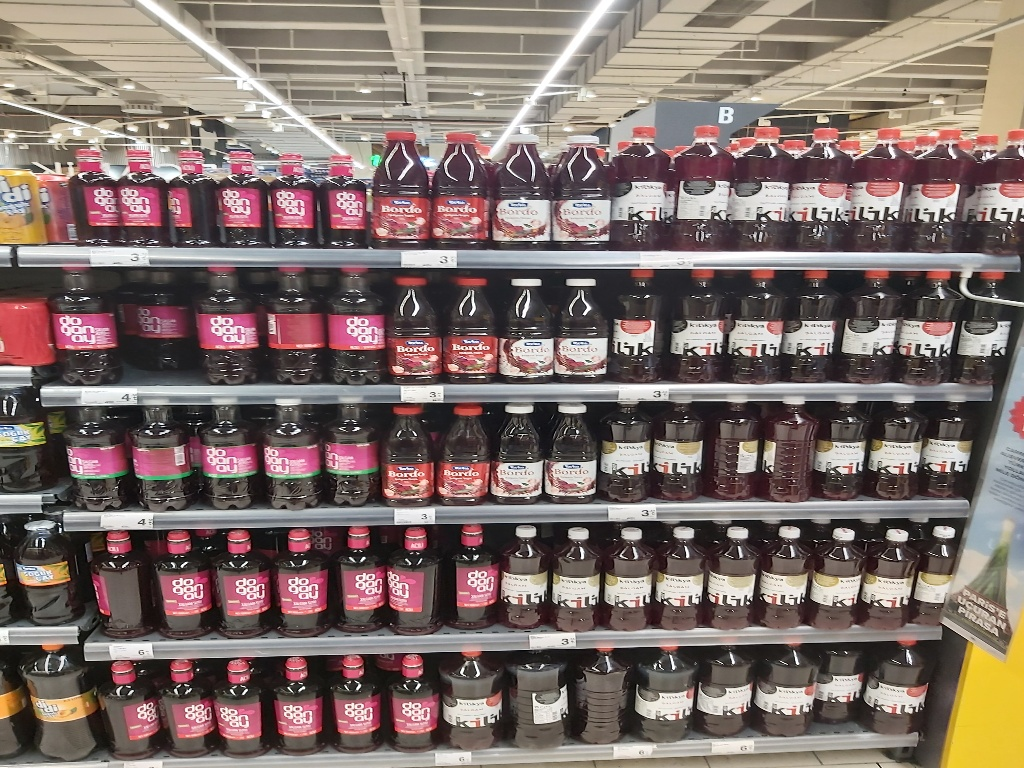urun: (20, 645, 92, 759), (128, 260, 195, 381), (193, 264, 260, 385), (49, 262, 115, 384), (259, 262, 325, 384), (379, 262, 445, 384), (319, 264, 385, 385), (732, 120, 794, 247), (910, 120, 972, 247), (369, 124, 430, 251), (429, 120, 490, 247), (552, 120, 613, 247), (611, 120, 672, 247), (672, 125, 733, 252), (963, 124, 1024, 251), (492, 122, 553, 248), (791, 122, 852, 248), (850, 122, 911, 248), (269, 516, 334, 634), (92, 654, 163, 762), (83, 525, 150, 639), (838, 259, 899, 383), (150, 530, 216, 644), (552, 262, 612, 387), (602, 262, 662, 387), (63, 403, 131, 513), (129, 399, 197, 509), (193, 398, 261, 508), (257, 398, 325, 508), (316, 401, 384, 511), (370, 394, 438, 504), (426, 397, 494, 507), (440, 266, 500, 390), (497, 257, 557, 381), (666, 261, 726, 385), (723, 265, 783, 389), (780, 266, 840, 390), (901, 264, 961, 388), (954, 270, 1015, 390), (13, 518, 78, 627), (214, 524, 271, 644), (705, 393, 765, 504), (759, 390, 815, 506), (503, 649, 570, 744), (564, 646, 631, 741), (627, 644, 694, 739), (443, 644, 502, 751), (750, 643, 817, 737), (490, 397, 547, 507), (596, 389, 653, 499), (690, 641, 756, 736), (114, 129, 165, 251), (163, 129, 214, 251), (215, 125, 266, 247), (269, 125, 320, 247), (316, 127, 367, 248), (543, 394, 599, 504), (649, 398, 705, 508), (211, 650, 266, 758), (328, 646, 383, 754), (867, 641, 933, 731), (155, 648, 210, 755), (266, 652, 321, 759), (385, 652, 440, 759), (869, 390, 922, 499), (705, 524, 758, 626), (760, 524, 813, 626), (810, 525, 863, 627), (817, 390, 868, 495), (338, 522, 387, 631), (922, 399, 974, 499), (392, 525, 438, 630), (451, 525, 497, 630), (503, 522, 549, 627), (556, 525, 602, 630), (658, 520, 704, 625), (604, 524, 650, 628), (911, 527, 957, 626), (865, 525, 911, 623), (813, 645, 860, 735)
urun2: (67, 133, 118, 255)
